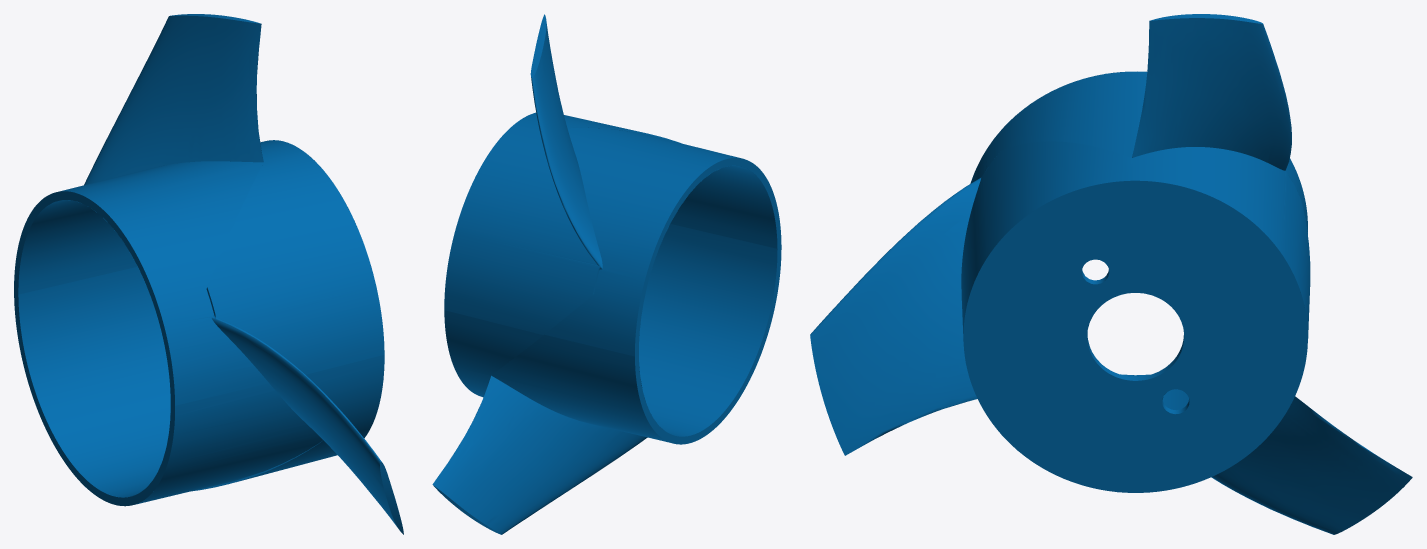
Rendered from ccw.obj.
The picture shows the model from 3 angles, left to right: view 1: azimuth 30°, elevation 25°; view 2: azimuth 150°, elevation 25°; view 3: azimuth 270°, elevation 25°; orthographic projection. The views are drawn at different scales.
Parts seen in each view (by area): view 1: PropCCW_ID1330; view 2: PropCCW_ID1330; view 3: PropCCW_ID1330.
Part boxes in pixels (<box>): PropCCW_ID1330: <box>14,14,403,534</box>; PropCCW_ID1330: <box>432,14,781,534</box>; PropCCW_ID1330: <box>810,14,1412,534</box>.
Size of the model in its own units: 0.03 by 0.0685 by 0.07.
